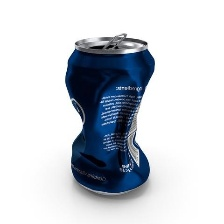can: (62, 29, 156, 200)
